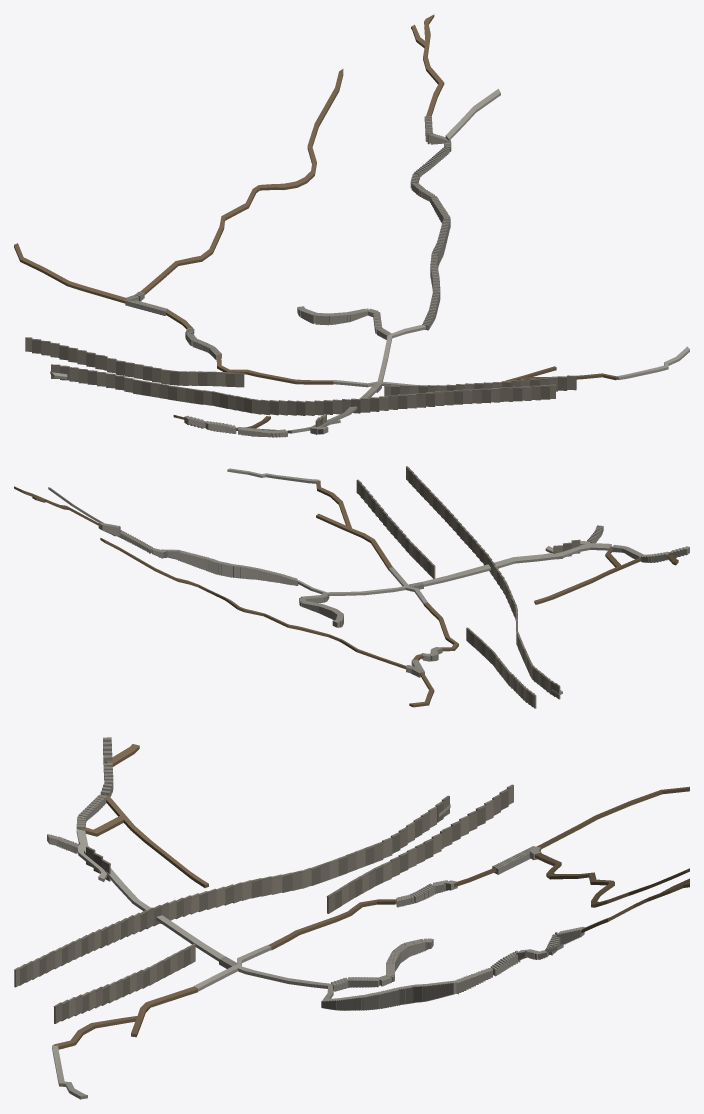
3 views of the same model, one above another, from view 1: azimuth 30°, elevation 25°; view 2: azimuth 150°, elevation 25°; view 3: azimuth 270°, elevation 25° (orthographic). The views are drawn at different scales.
Size of the model in its own units: 147 by 53.29 by 138.
